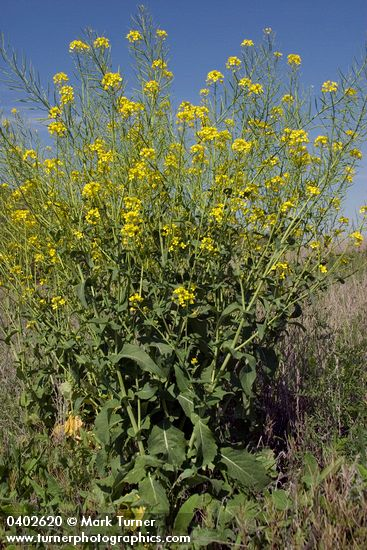mustard: (10, 24, 360, 276)
